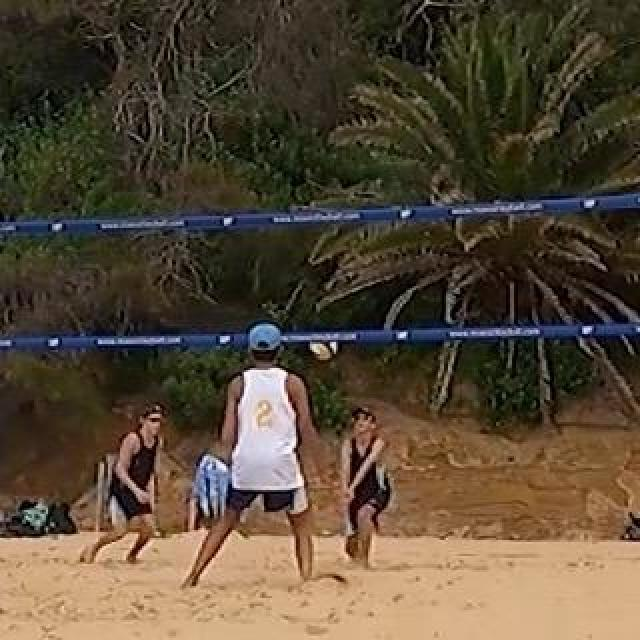volleyball: (309, 332, 339, 360)
